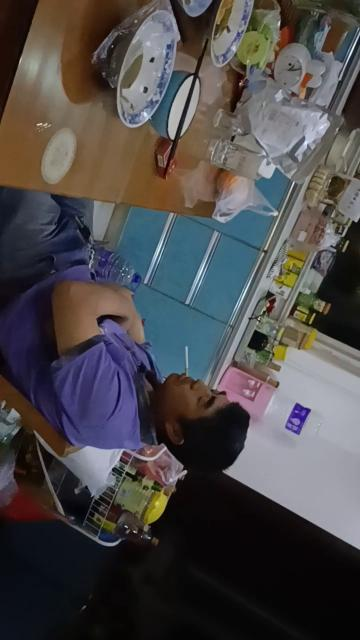Cigarette: (186, 346, 188, 376)
